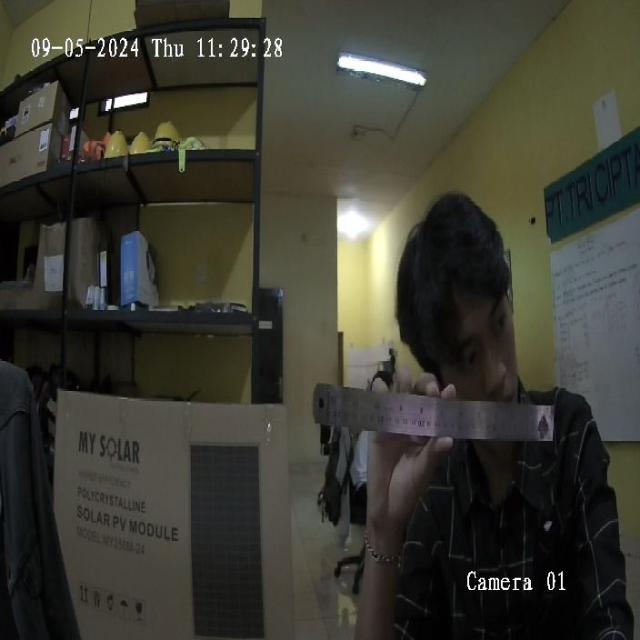Ruler: (314, 383, 554, 440)
